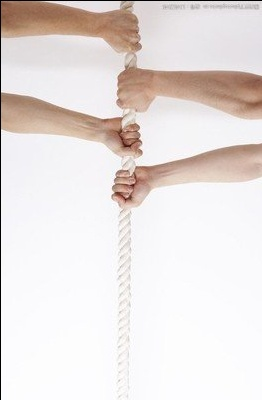9/可回收垃圾/绳子: (116, 210, 131, 399), (121, 107, 135, 128), (121, 155, 135, 174), (123, 52, 138, 69), (121, 1, 135, 12)
